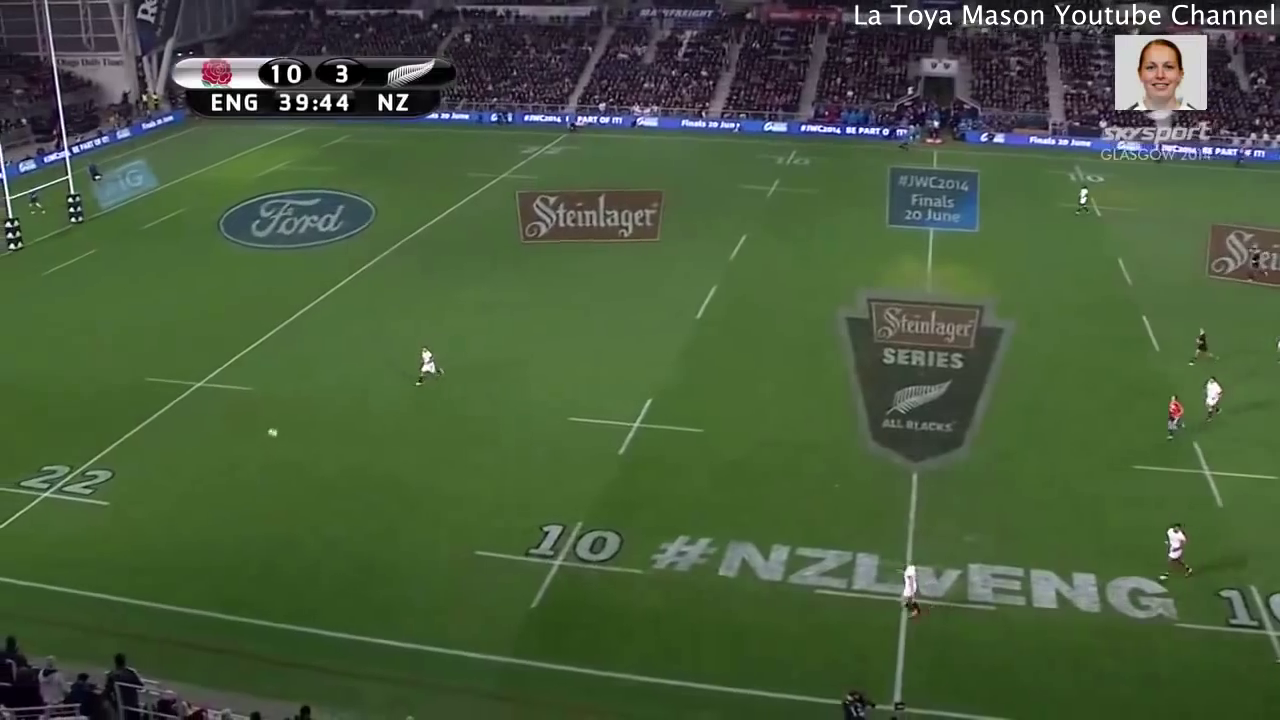10_metre: (469, 513, 646, 620), (1125, 437, 1280, 520), (562, 392, 710, 462), (1169, 581, 1280, 670), (1053, 188, 1139, 222), (1035, 160, 1122, 185), (734, 176, 823, 200), (755, 146, 825, 168)
ball: (265, 424, 281, 448)
player: (1157, 513, 1200, 589), (1194, 366, 1233, 428), (409, 340, 450, 396), (1160, 383, 1193, 445), (1182, 320, 1221, 371), (1068, 178, 1095, 223), (25, 182, 52, 221)
post: (1, 1, 88, 256)
